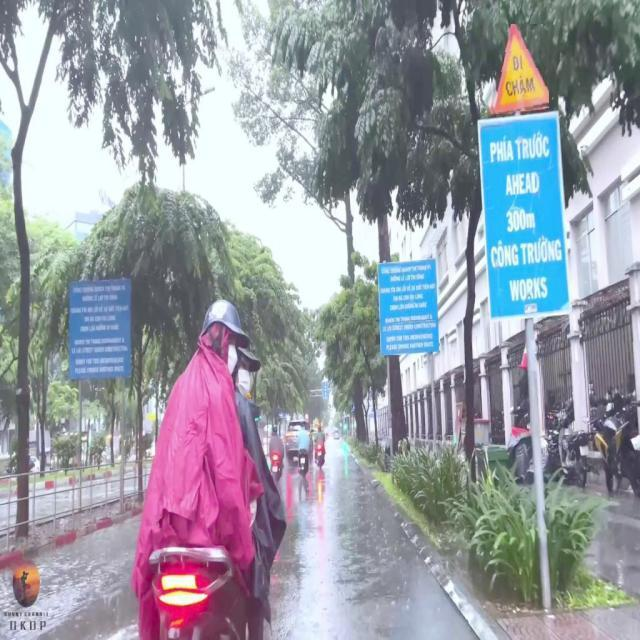245-di-cham: (490, 23, 550, 112)
